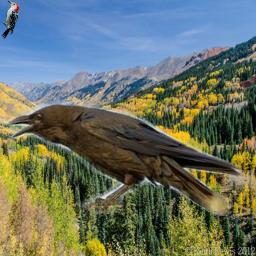Crow: (3, 98, 248, 216)
Woodpecker: (1, 0, 19, 39)
